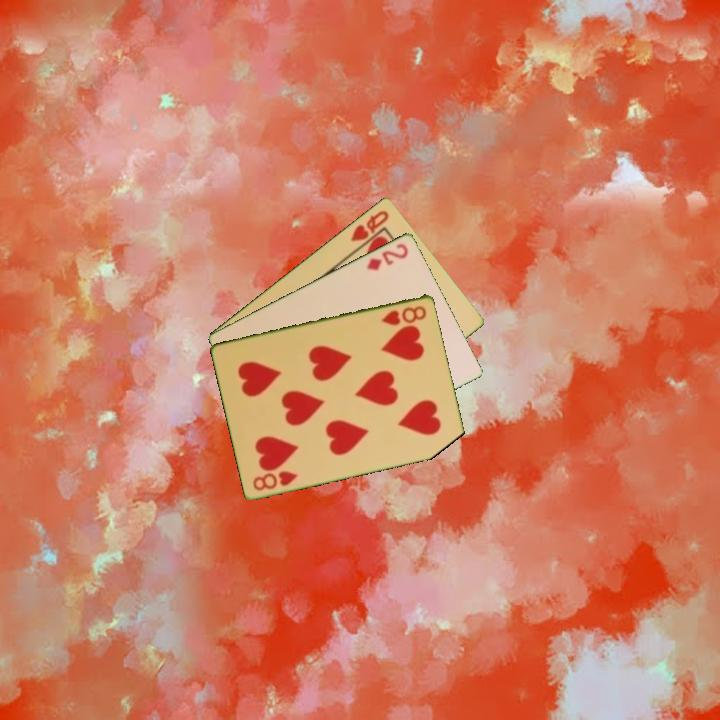2d: (363, 239, 411, 273)
8h: (249, 467, 301, 493), (378, 302, 429, 328)
Qh: (347, 206, 392, 252)
